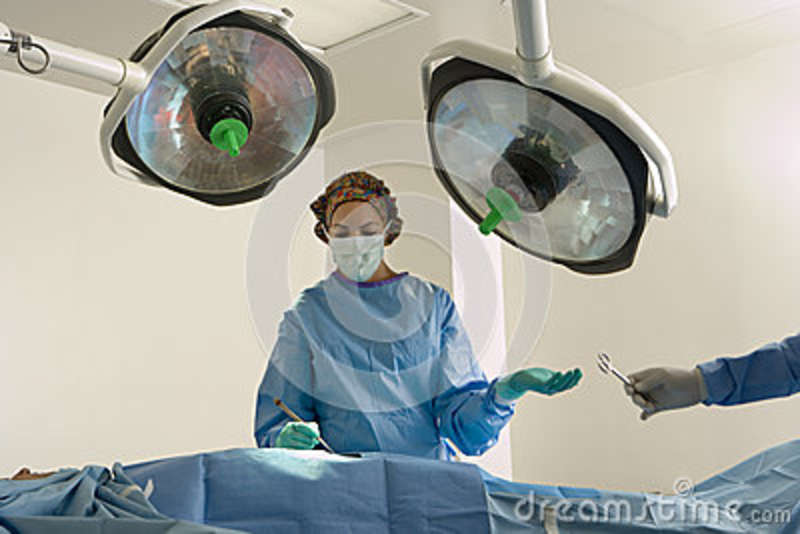mask: (325, 238, 387, 281)
